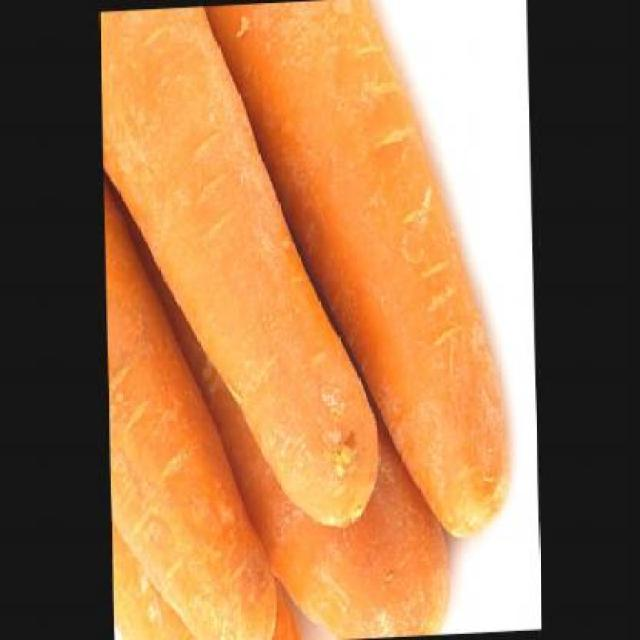carrot: (149, 0, 513, 557), (112, 171, 454, 638), (102, 0, 382, 540), (105, 200, 282, 638), (112, 507, 306, 638)
